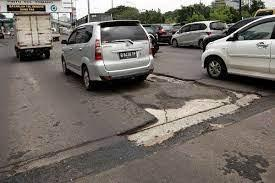Pothole: (115, 70, 262, 148)
